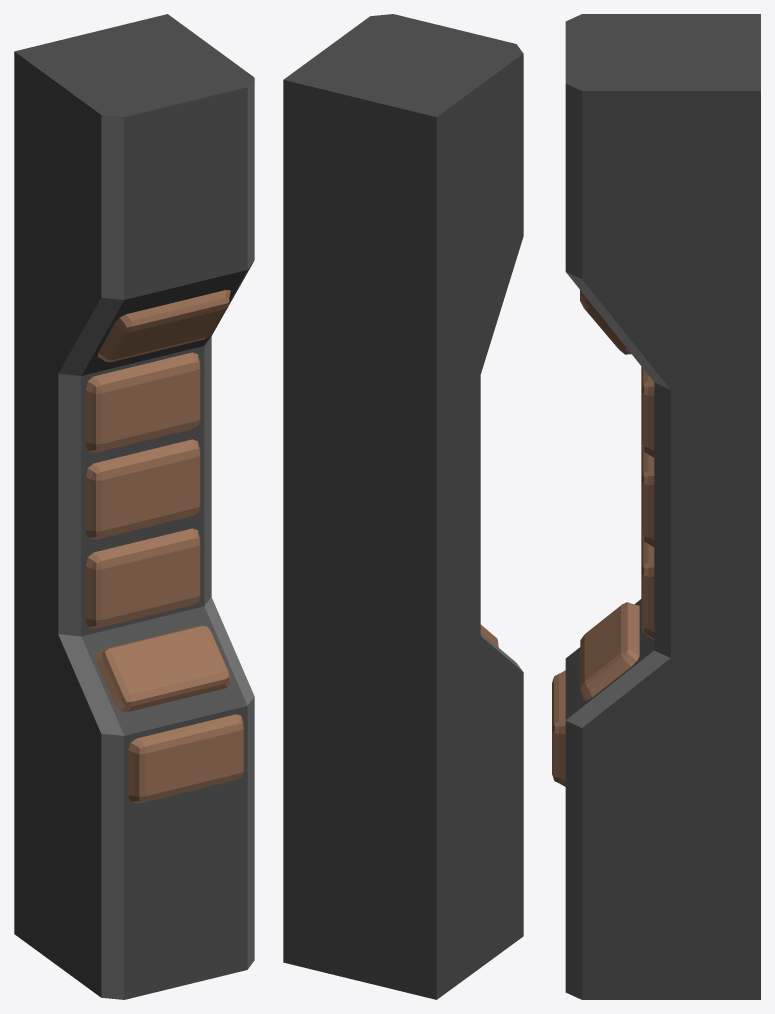
The model's file is SM_Bld_Wall_Pillar_07.fbx.
3 renders of one model, left to right at view 1: azimuth 30°, elevation 25°; view 2: azimuth 150°, elevation 25°; view 3: azimuth 270°, elevation 25°, orthographic. The views are drawn at different scales.
Visible parts, largest first — view 1: SM_Bld_Wall_Pillar_07; view 2: SM_Bld_Wall_Pillar_07; view 3: SM_Bld_Wall_Pillar_07.
Part boxes in pixels (x1,y1,x2,y2): SM_Bld_Wall_Pillar_07: (14, 14, 254, 999); SM_Bld_Wall_Pillar_07: (283, 14, 523, 999); SM_Bld_Wall_Pillar_07: (552, 14, 760, 999).
Bounding box in the file's own units: 92.55 × 509 × 106.
1 material, 1 textured.
